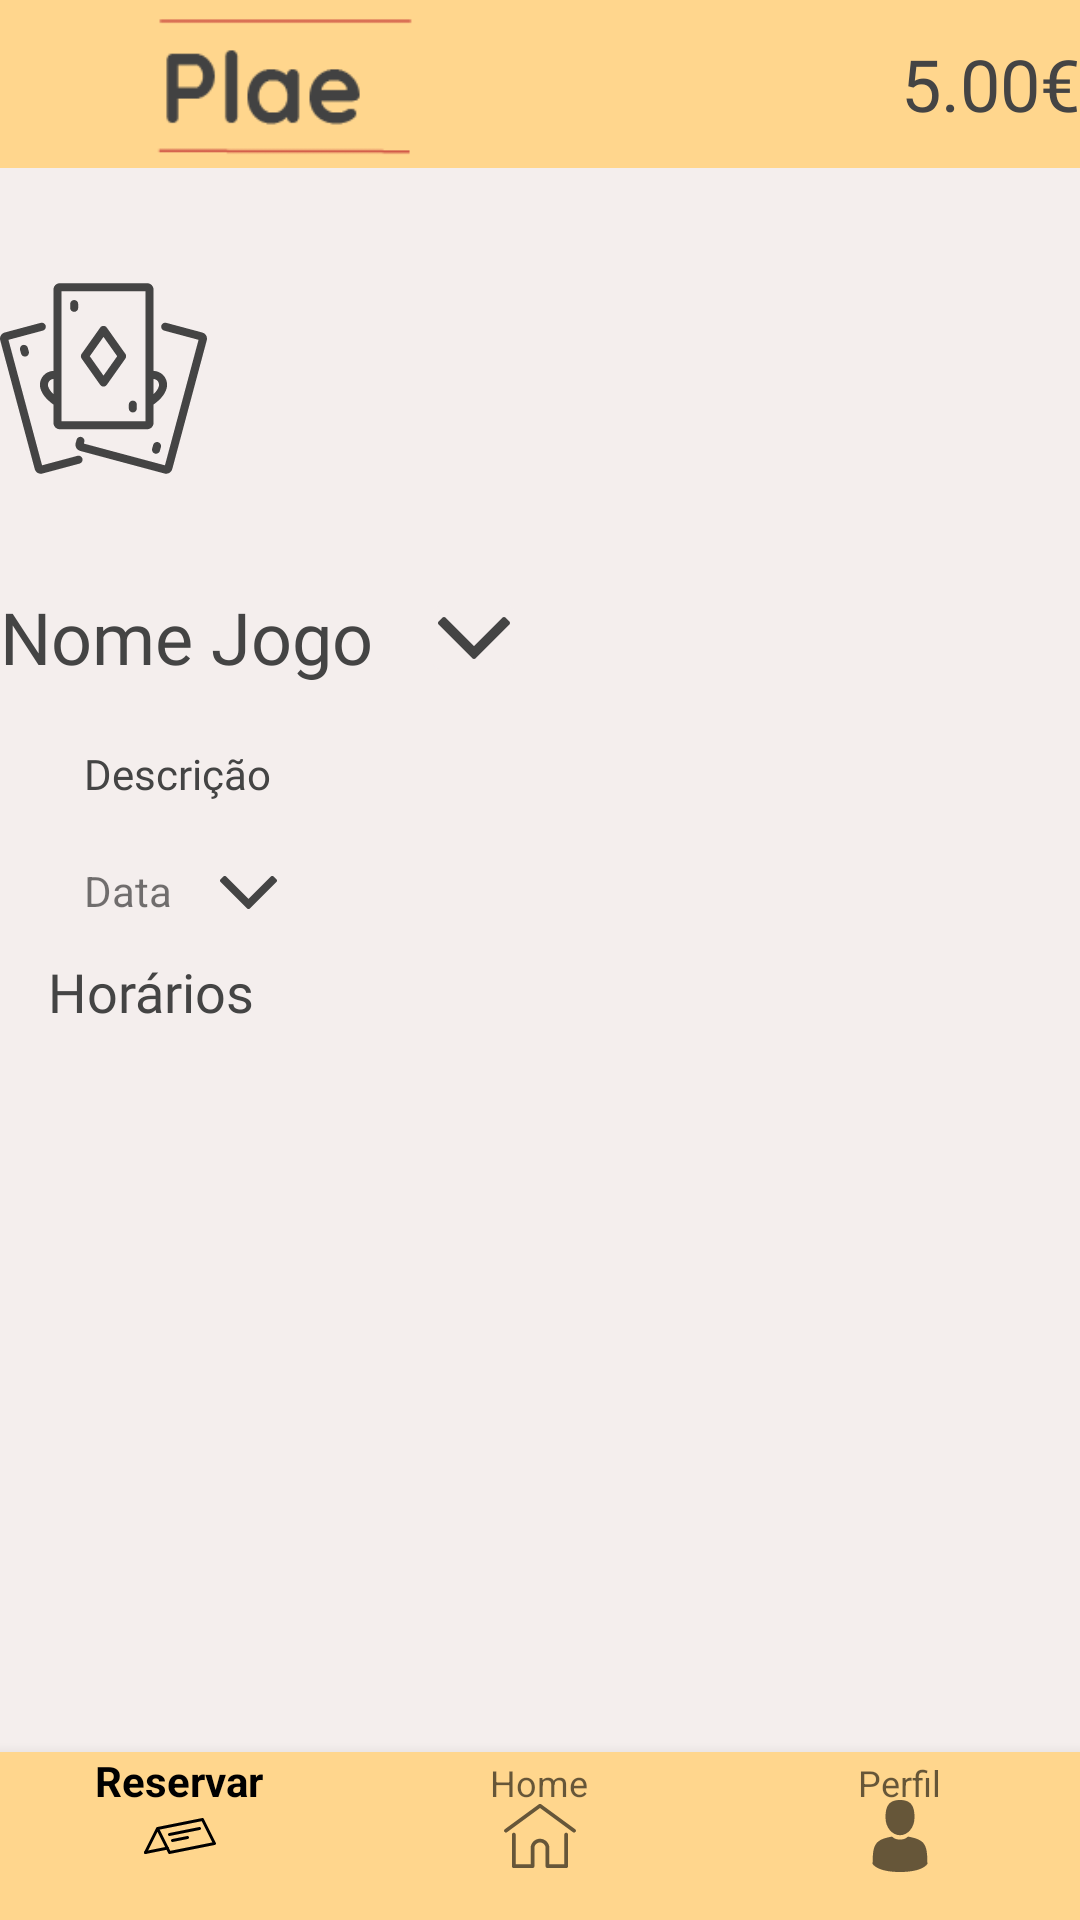

Screen size 1080px×1920px. Icon name, then its center in pixels as (x=x, y=y):
arrow down: (x=474, y=638), (x=248, y=892)
cards: (x=103, y=378)
